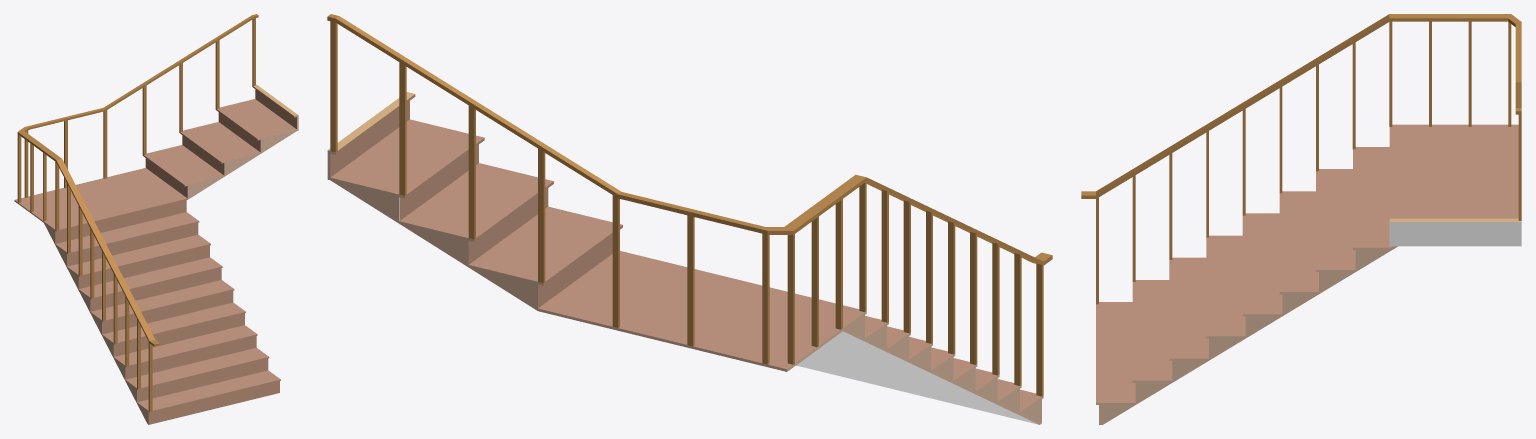
Rendered from sh-contrib-stairs-90-closed-legal-high.glb.
3 renders of one model, left to right at view 1: azimuth 30°, elevation 25°; view 2: azimuth 150°, elevation 25°; view 3: azimuth 270°, elevation 25°, orthographic. The views are drawn at different scales.
Parts seen in each view (by area): view 1: 44_44, 28_28; view 2: 44_44, 28_28, 39_39; view 3: 44_44, 28_28, 39_39.
Part boxes in pixels (x1=…): 44_44: x1=15, y1=84, x2=298, y2=424; 28_28: x1=14, y1=14, x2=298, y2=424; 44_44: x1=328, y1=92, x2=1041, y2=412; 28_28: x1=327, y1=14, x2=1052, y2=424; 39_39: x1=796, y1=331, x2=1038, y2=424; 44_44: x1=1096, y1=124, x2=1521, y2=402; 28_28: x1=1081, y1=14, x2=1521, y2=424; 39_39: x1=1389, y1=222, x2=1521, y2=246.
Size of the model in its own units: 1 by 1 by 1.
